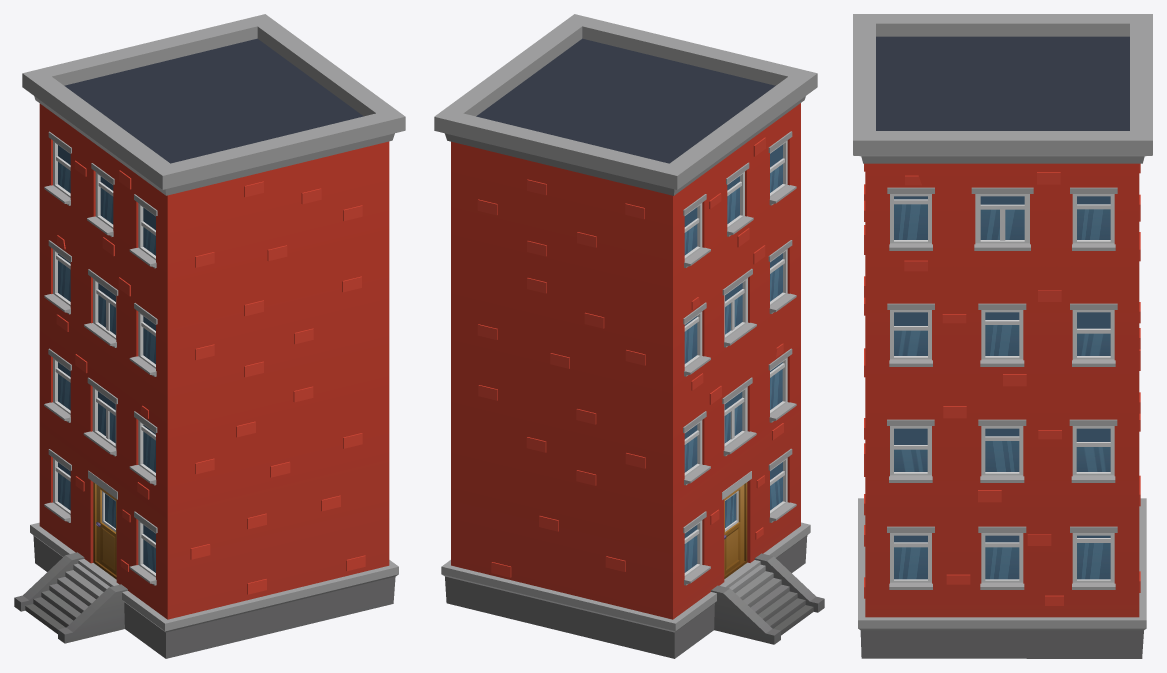
Rendered from Building_2_2_A.fbx.
3 renders of one model, left to right at view 1: azimuth 30°, elevation 25°; view 2: azimuth 150°, elevation 25°; view 3: azimuth 270°, elevation 25°, orthographic. The views are drawn at different scales.
Parts seen in each view (by area): view 1: Building_2_2_A; view 2: Building_2_2_A; view 3: Building_2_2_A.
Part boxes in pixels (x1,y1,x2,y2): Building_2_2_A: (14, 14, 405, 658); Building_2_2_A: (434, 14, 824, 658); Building_2_2_A: (853, 14, 1152, 658).
Bounding box in the file's own units: 754 × 1191 × 620.
